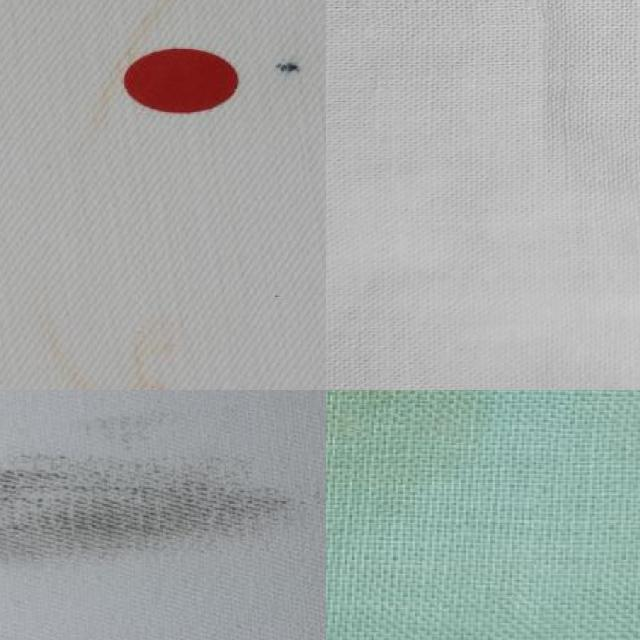Hole: (0, 390, 326, 640), (250, 33, 318, 124)
